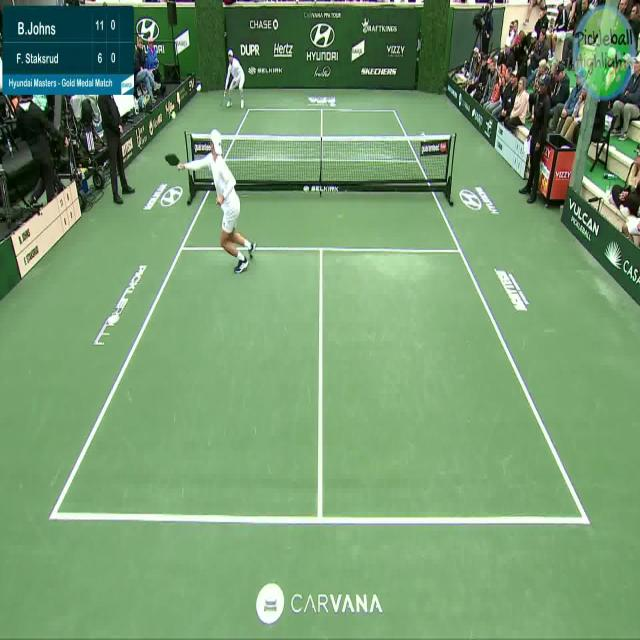ball: (170, 111, 177, 119)
